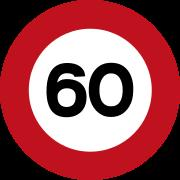Speed Limit -60-: (32, 30, 146, 142)
